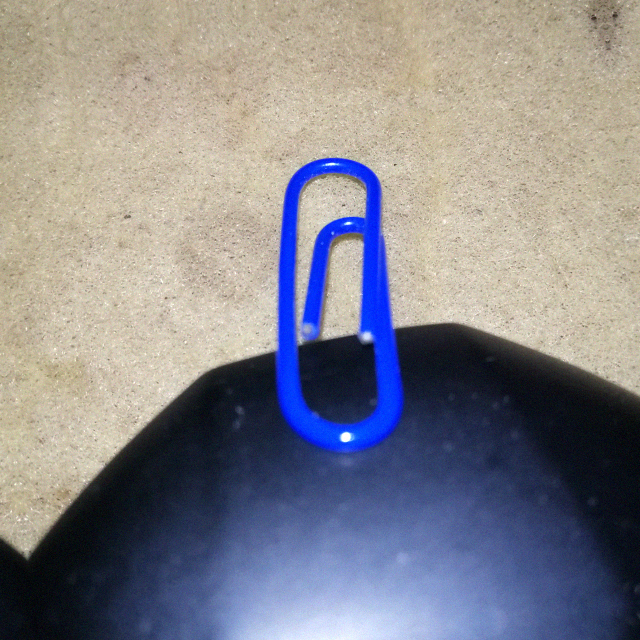pin: (253, 145, 412, 453)
